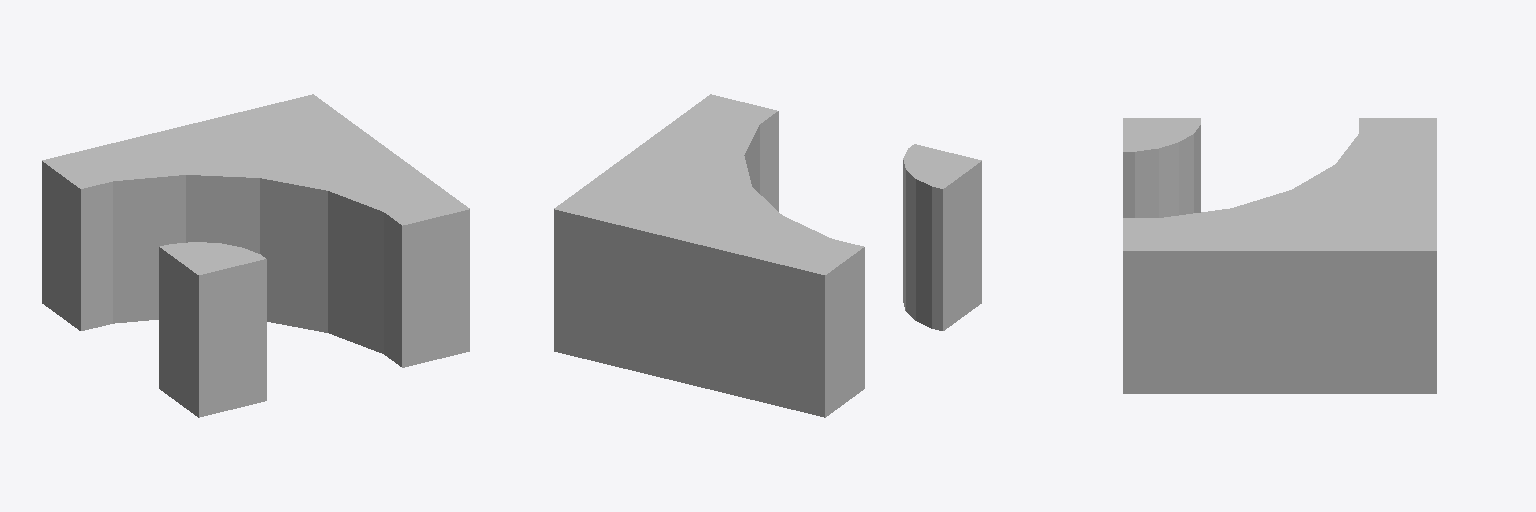
Rendered from 2_steps_walls_curved.obj.
The picture shows the model from 3 angles: view 1: azimuth 30°, elevation 25°; view 2: azimuth 150°, elevation 25°; view 3: azimuth 270°, elevation 25°; orthographic projection.
Parts seen in each view (by area): view 1: object2, object1; view 2: object2, object1; view 3: object2, object1.
Part boxes in pixels (x1,y1,x2,y2): object2: (42, 94, 469, 367); object1: (159, 242, 266, 417); object2: (554, 94, 864, 417); object1: (903, 144, 981, 330); object2: (1123, 118, 1436, 393); object1: (1123, 118, 1200, 217).
Bounding box in the file's own units: 2 × 1 × 2.